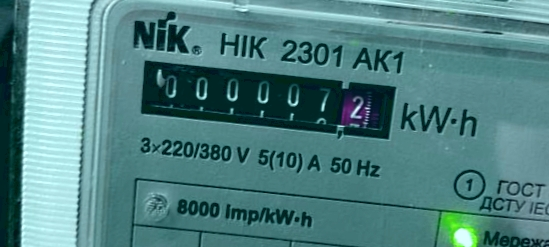0: (219, 78, 240, 107), (158, 75, 178, 104), (189, 77, 209, 106), (281, 83, 300, 113), (251, 80, 269, 109)
2: (345, 95, 364, 126)
7: (311, 88, 330, 118)
screen: (127, 49, 406, 154)
